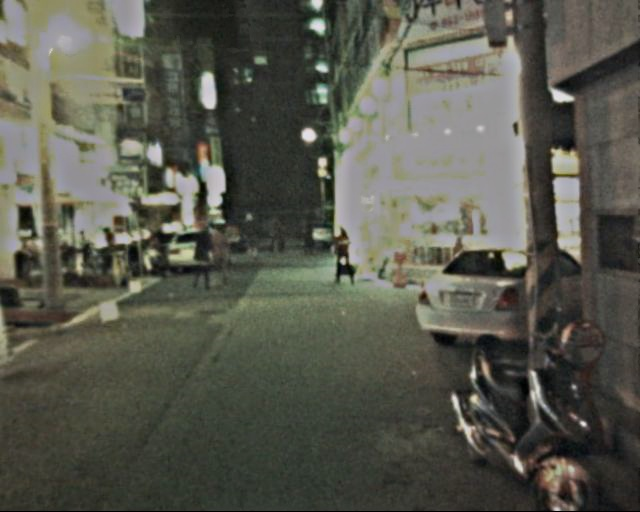person: (203, 223, 236, 291), (325, 222, 355, 285), (185, 224, 214, 289), (238, 212, 262, 261), (263, 217, 284, 254), (299, 220, 312, 255)
